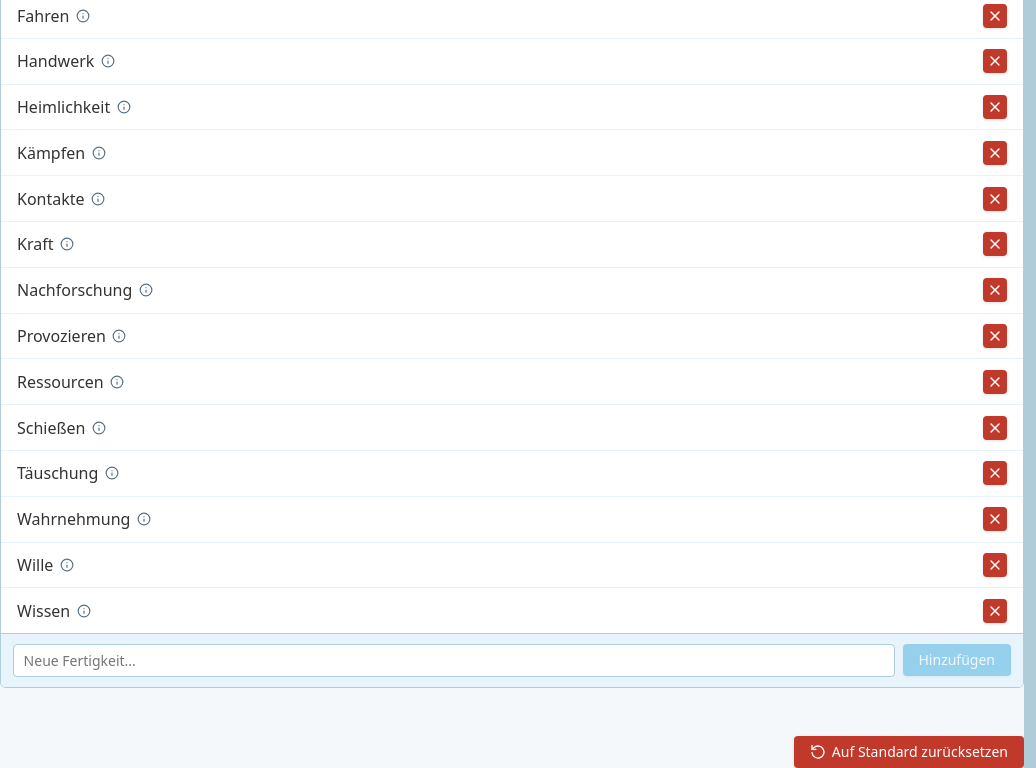
Scenario: SkillsView › "Hinzufügen" button › is enabled when the input has text
(page scrolled)
Type "Zauberei" into the field with placeholder "Neue Fertigkeit..." at (454, 661), box [13,644,894,678]
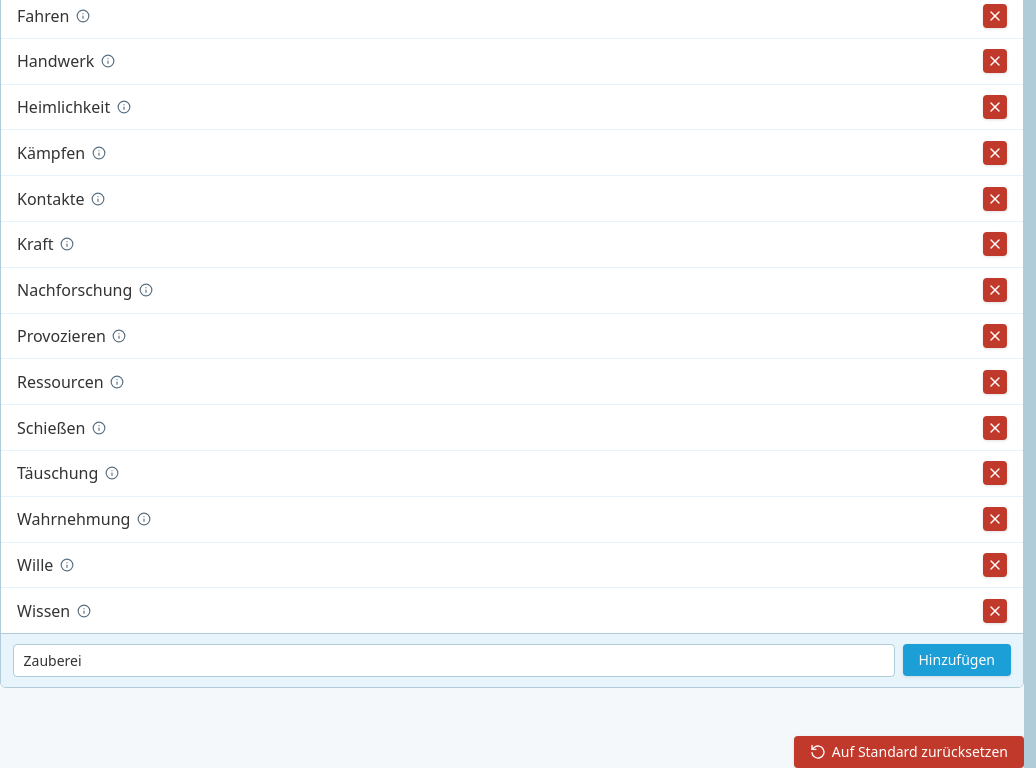
Expected: the button "Hinzufügen" is enabled, [902,644,1011,676]
